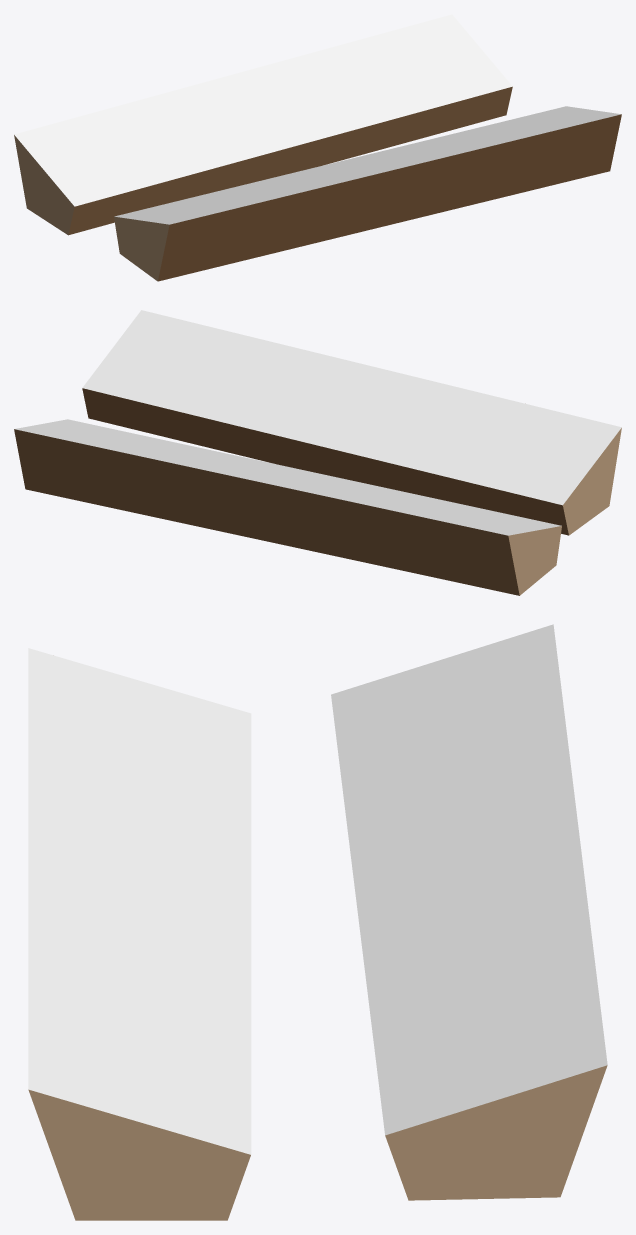
Rendered from Pine_Firewood_Snow_06_LOD.fbx.
The picture shows the model from 3 angles, top to bottom: view 1: azimuth 30°, elevation 25°; view 2: azimuth 150°, elevation 25°; view 3: azimuth 270°, elevation 25°; orthographic projection. The views are drawn at different scales.
Visible parts, largest first — view 1: Pine_Firewood_Snow_06_LOD0; view 2: Pine_Firewood_Snow_06_LOD0; view 3: Pine_Firewood_Snow_06_LOD0.
Part boxes in pixels (<box>): Pine_Firewood_Snow_06_LOD0: <box>14,14,621,281</box>; Pine_Firewood_Snow_06_LOD0: <box>14,310,621,595</box>; Pine_Firewood_Snow_06_LOD0: <box>28,624,607,1220</box>.
Size of what is drawn, in the model's own units: 59.01 by 7.76 by 31.06.
